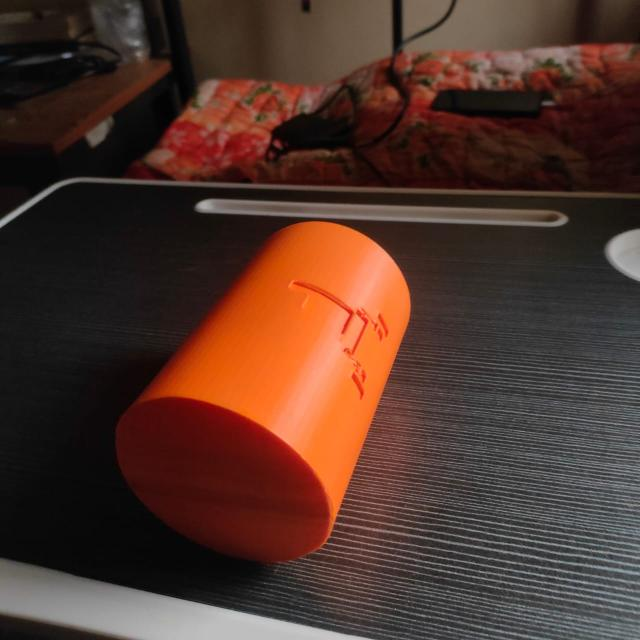Cylinder: (114, 218, 412, 564)
